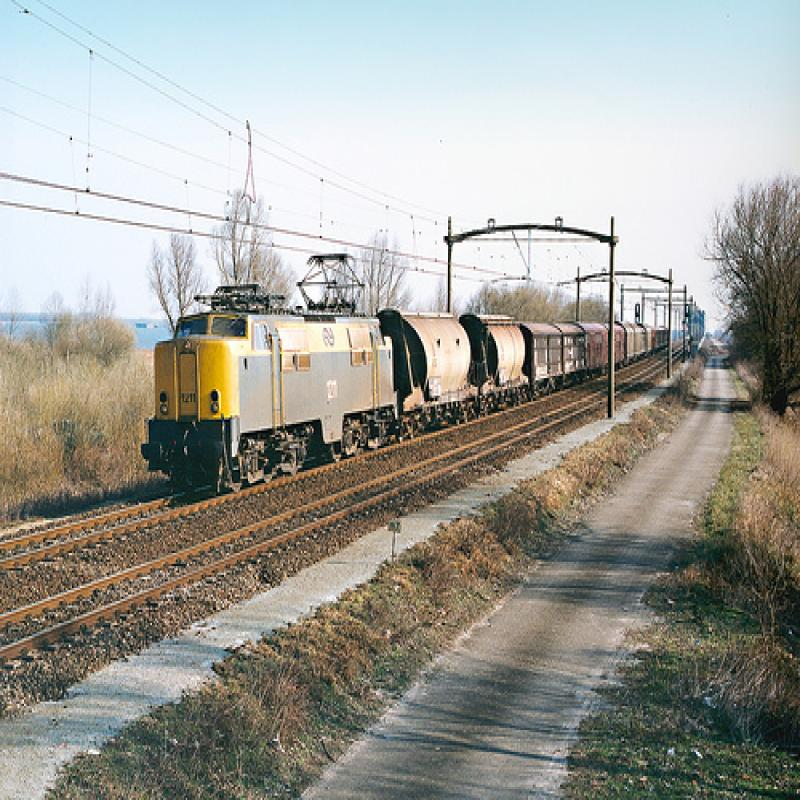train: (137, 246, 673, 495)
